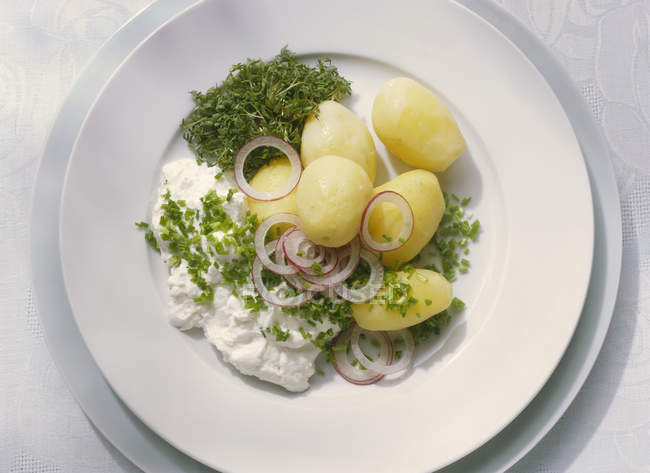boiled potatoes: (315, 102, 423, 261)
